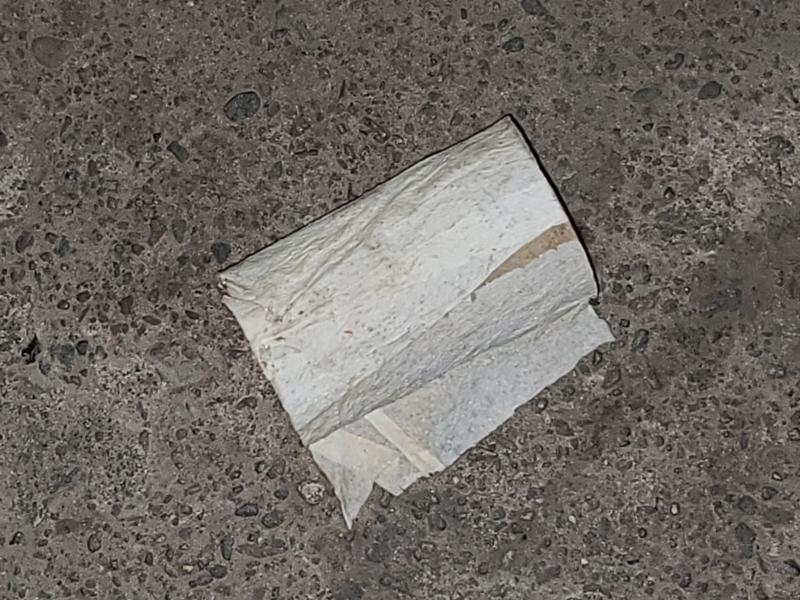papel: (216, 115, 614, 527)
